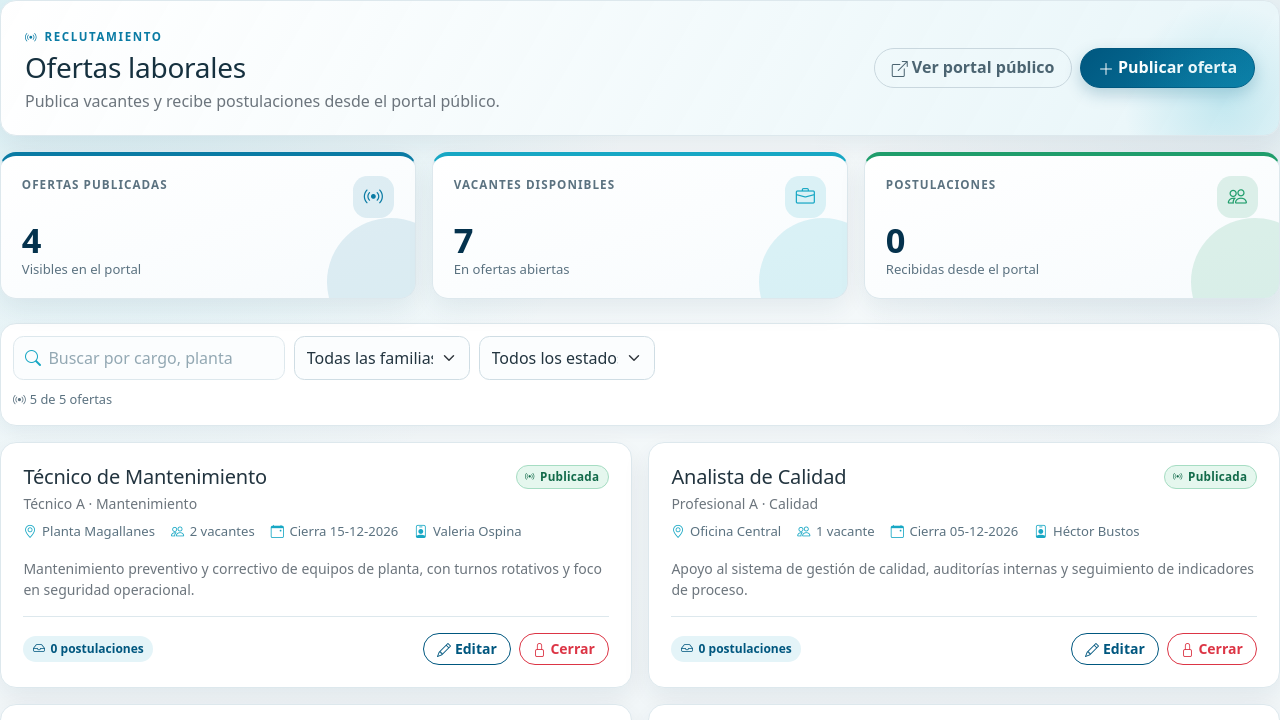
Test: OfertasPage — filtros y estados › filtra por texto, familia y estado, y limpia los filtros
The width and height of the screenshot is (1280, 720).
Type "analista" into the search field named "buscar oferta" at [149, 358], box [13,336,285,380]
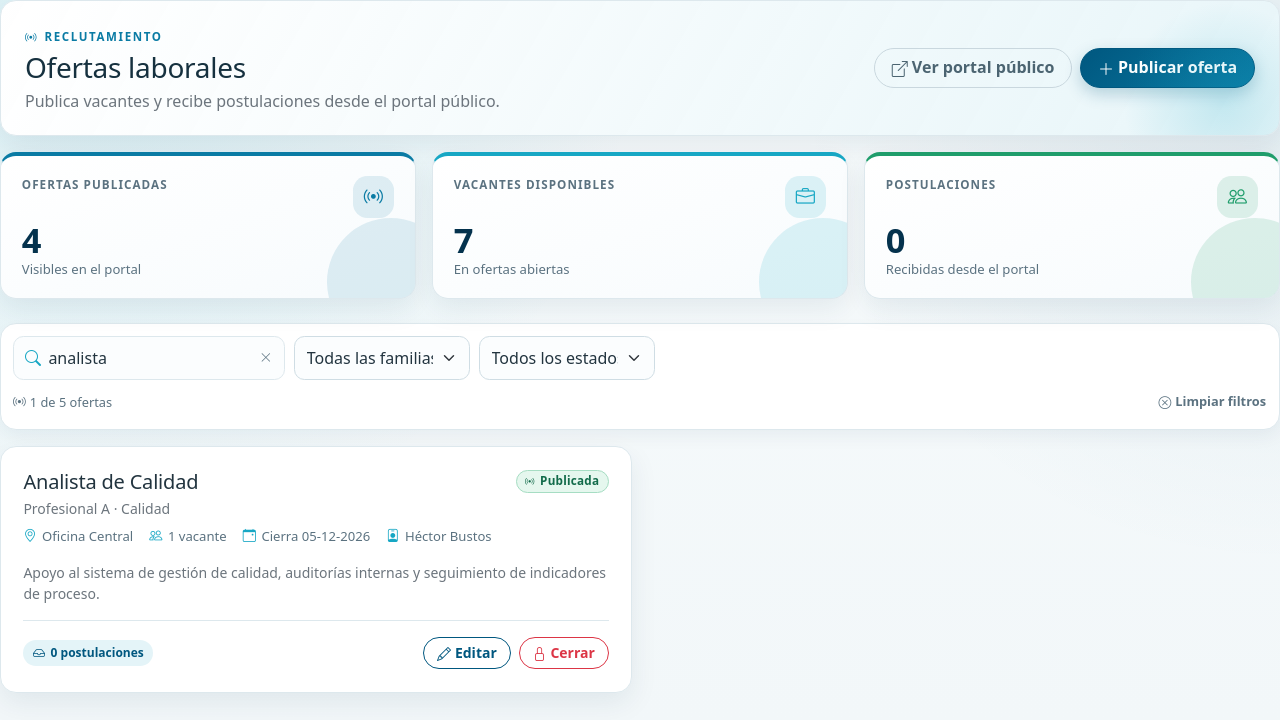
Expected: the heading "Analista de Calidad" is shown, [23,470,198,494]
Expected: the heading "Técnico de Mantenimiento" is gone
Click the button "Limpiar filtros" at [1212, 402], box [1158,387,1267,417]
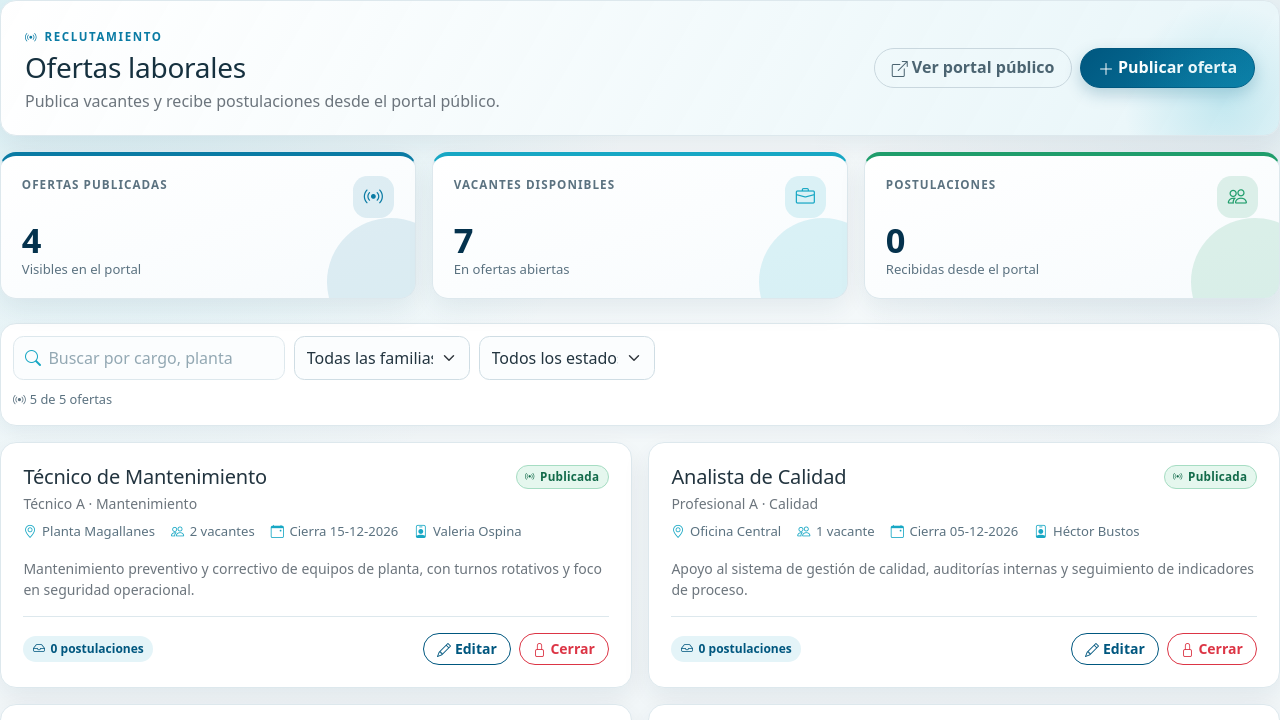
Expected: the heading "Técnico de Mantenimiento" is shown, [23,465,267,489]
Select "Jefatura" in the 1st dropdown named "familia de cargo" at [382, 358], box [294,336,470,380]
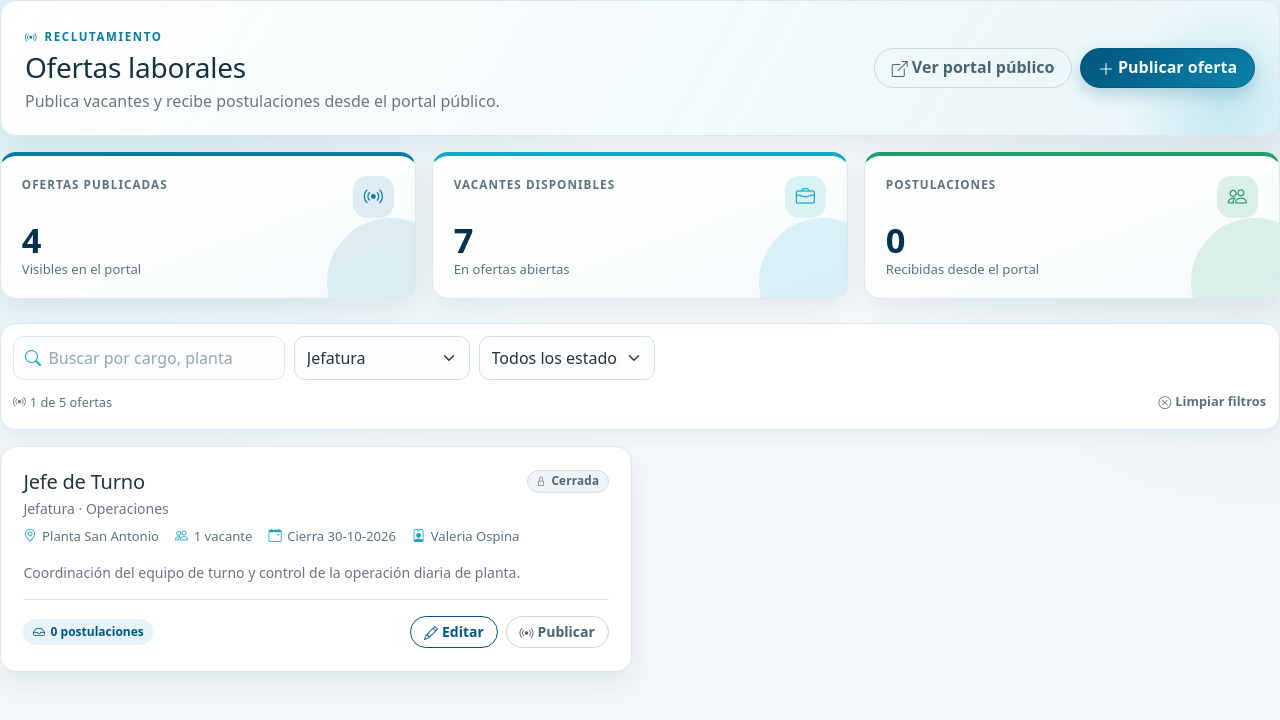
Expected: the heading "Jefe de Turno" is shown, [23,468,145,495]
Expected: the heading "Analista de Calidad" is gone
Select "Borrador" in the 2nd dropdown named "estado de la oferta" at [567, 358], box [479,336,655,380]
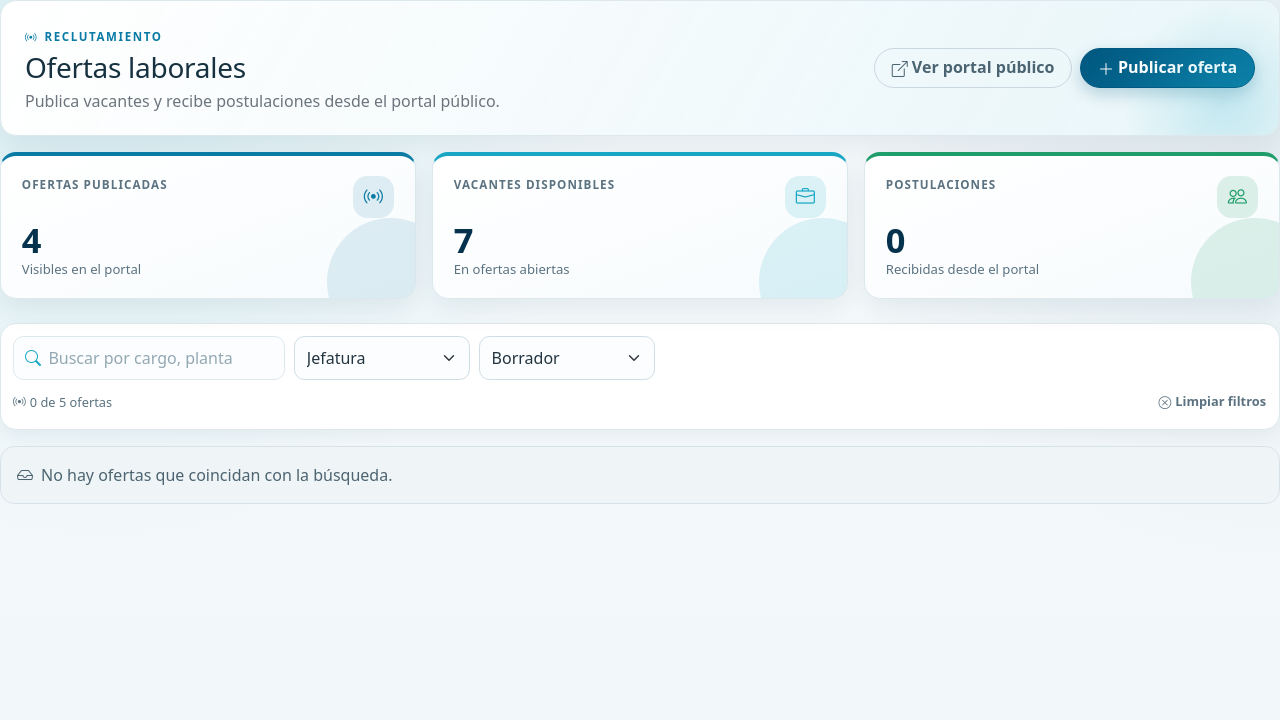
Expected: the text "No hay ofertas que coincidan con la búsqueda." is shown, [0,446,1279,504]
